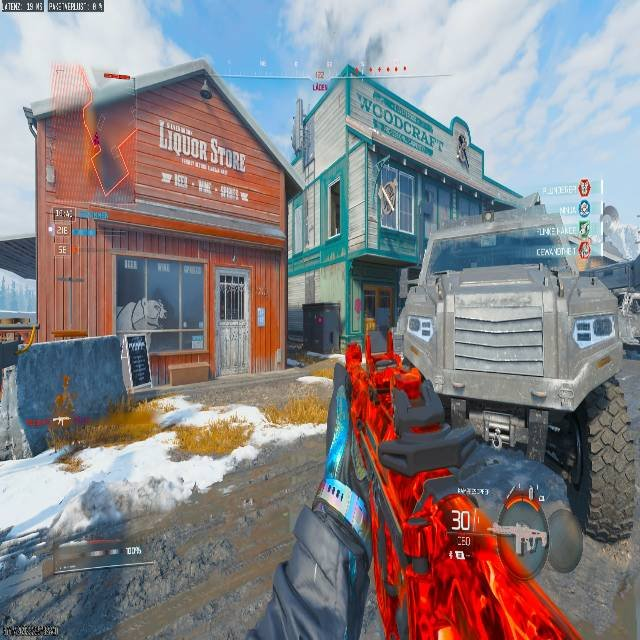player: (153, 294, 169, 328)
